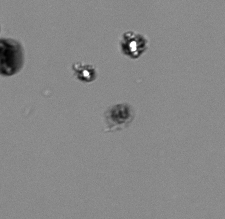Dead Cell: (1, 38, 20, 77), (111, 104, 131, 124)
Living Cell: (121, 33, 144, 57), (78, 66, 93, 81)
